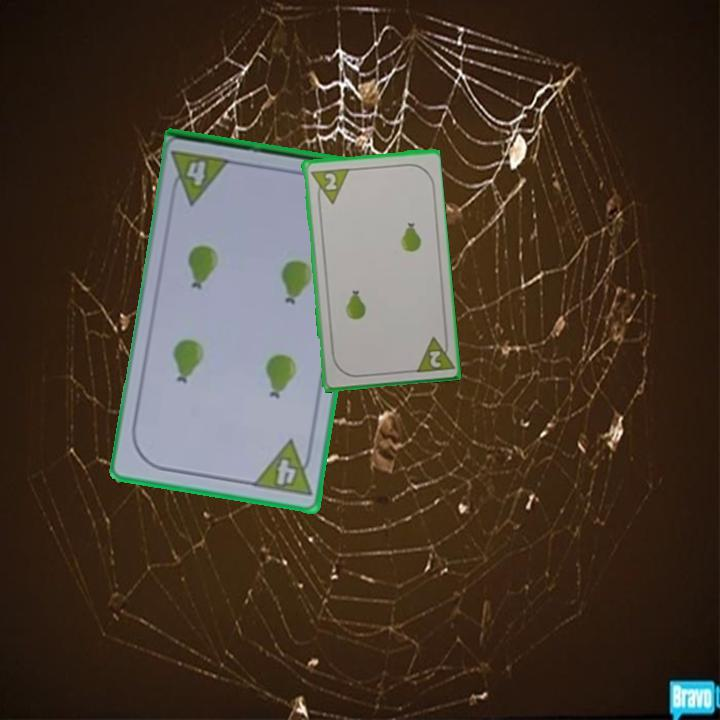2p: (411, 331, 455, 375), (321, 169, 339, 193)
4p: (249, 436, 317, 499), (166, 147, 235, 207)
